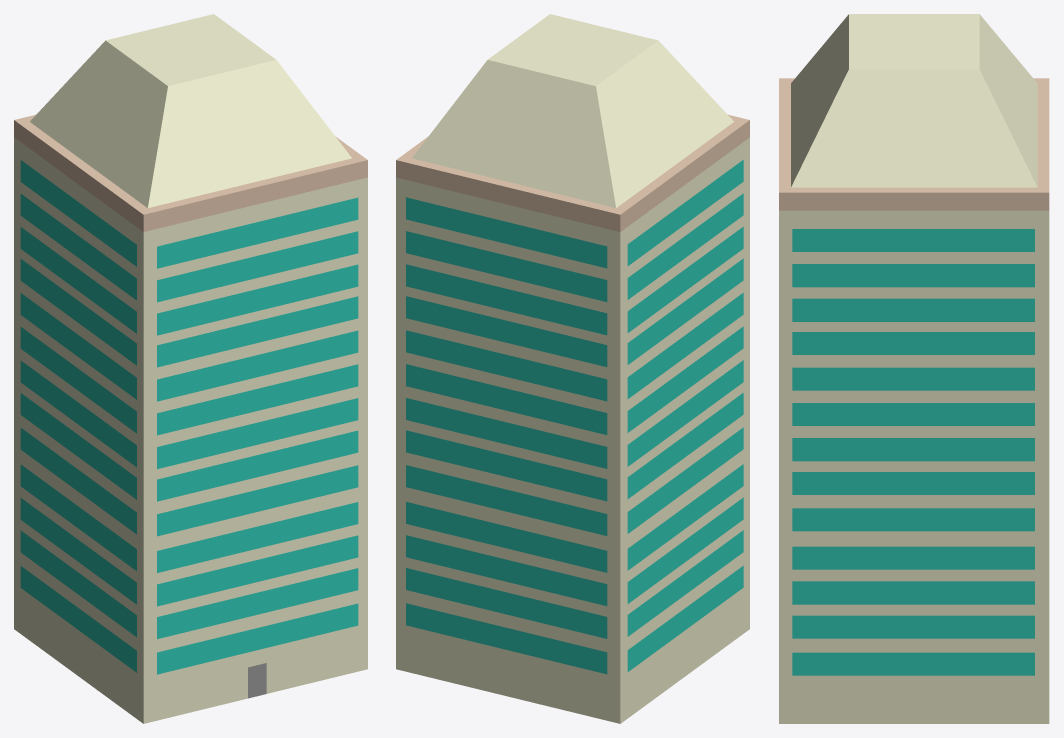
Rendered from skyscraper5.glb.
The picture shows the model from 3 angles, left to right: view 1: azimuth 30°, elevation 25°; view 2: azimuth 150°, elevation 25°; view 3: azimuth 270°, elevation 25°; orthographic projection. The views are drawn at different scales.
Visible parts, largest first — view 1: Skyscraper5; view 2: Skyscraper5; view 3: Skyscraper5.
Part boxes in pixels (x1,y1,x2,y2): Skyscraper5: (14,14,367,723); Skyscraper5: (396,14,749,723); Skyscraper5: (779,14,1049,723).
Bounding box in the file's own units: 2.5 × 6.38 × 2.51.
